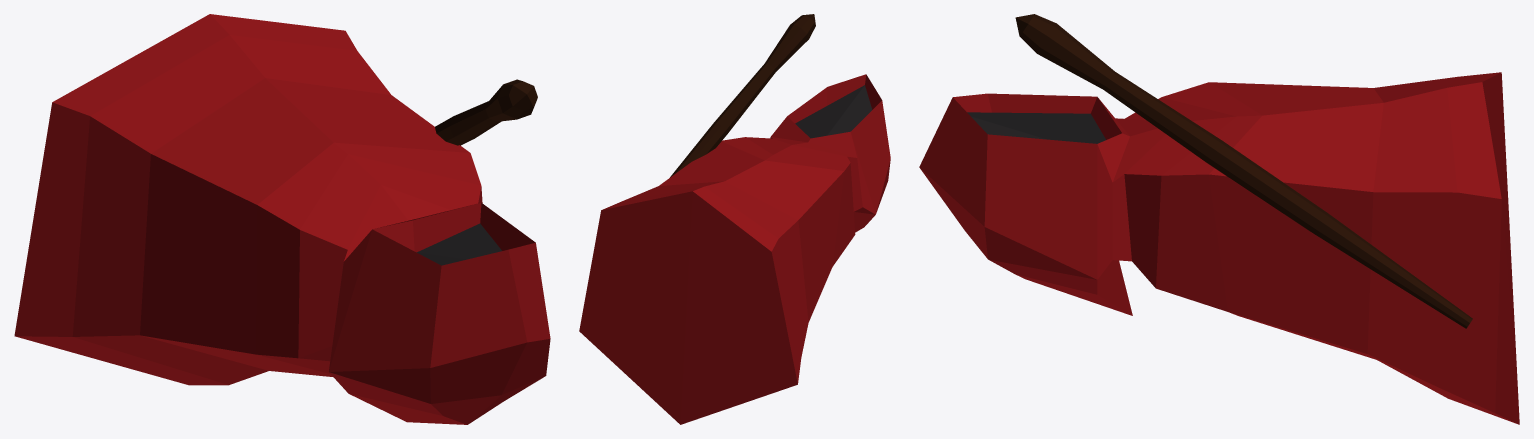
The model's file is wizard.glb.
3 views of the same model, side by side, from view 1: azimuth 30°, elevation 25°; view 2: azimuth 150°, elevation 25°; view 3: azimuth 270°, elevation 25° (orthographic). The views are drawn at different scales.
Parts seen in each view (by area): view 1: Sphere, Cube; view 2: Sphere, Cube; view 3: Sphere, Cube.
Part boxes in pixels (x1,y1,x2,y2): Sphere: [14, 14, 550, 424]; Cube: [435, 79, 537, 145]; Sphere: [579, 74, 890, 424]; Cube: [670, 14, 815, 177]; Sphere: [919, 72, 1519, 424]; Cube: [1015, 14, 1472, 328].
Bounding box in the file's own units: 1.75 × 2.17 × 2.72.
